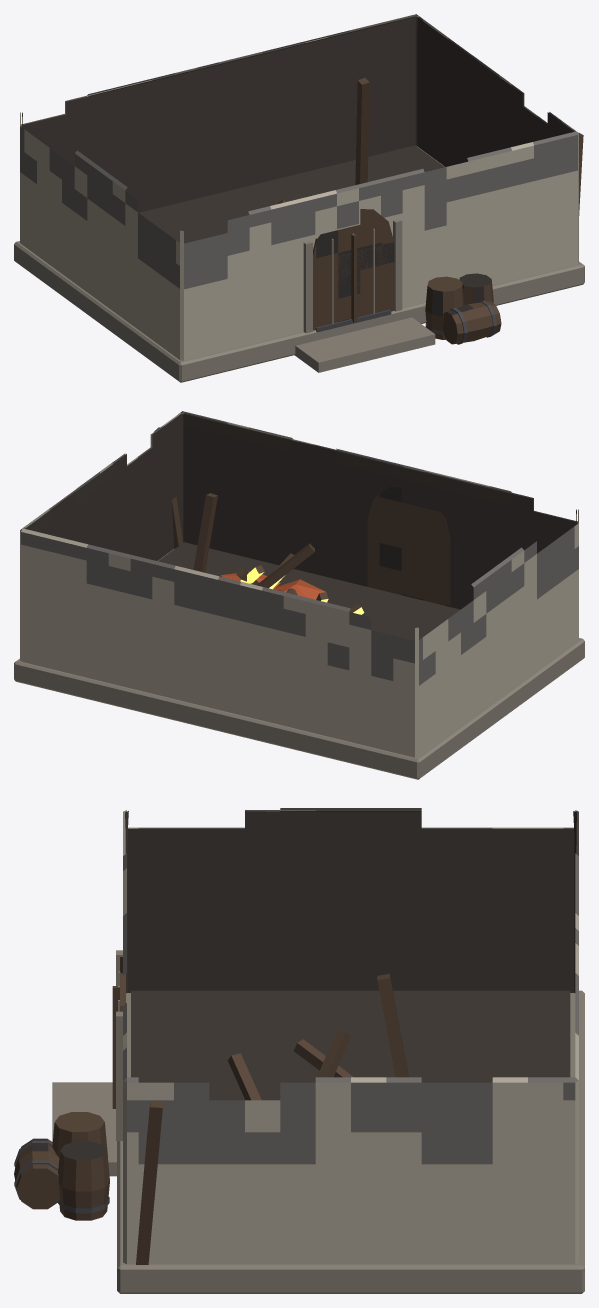
File: Taverne_Ruine.fbx
The picture shows the model from 3 angles, top to bottom: view 1: azimuth 30°, elevation 25°; view 2: azimuth 150°, elevation 25°; view 3: azimuth 270°, elevation 25°; orthographic projection. The views are drawn at different scales.
Visible parts, largest first — view 1: Taverne_Ruine; view 2: Taverne_Ruine; view 3: Taverne_Ruine.
Part boxes in pixels (x1,y1,x2,y2): Taverne_Ruine: (14,14,584,382); Taverne_Ruine: (14,411,584,779); Taverne_Ruine: (14,808,584,1293).
Size of the model in its own units: 8.54 by 3.27 by 7.26.
